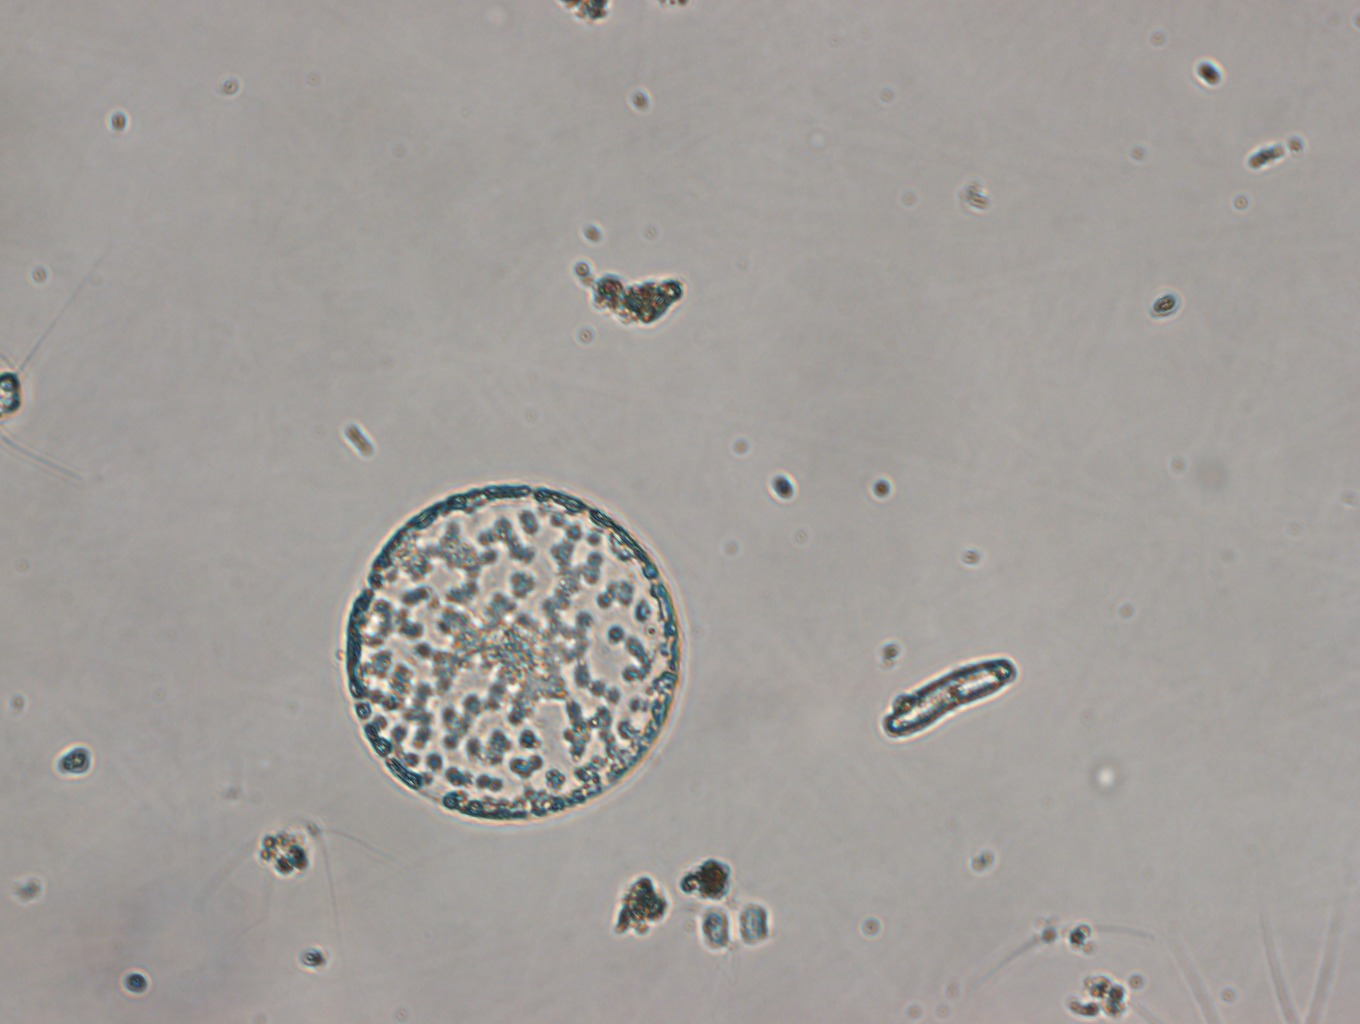coscinodiscus: (337, 479, 686, 822)
